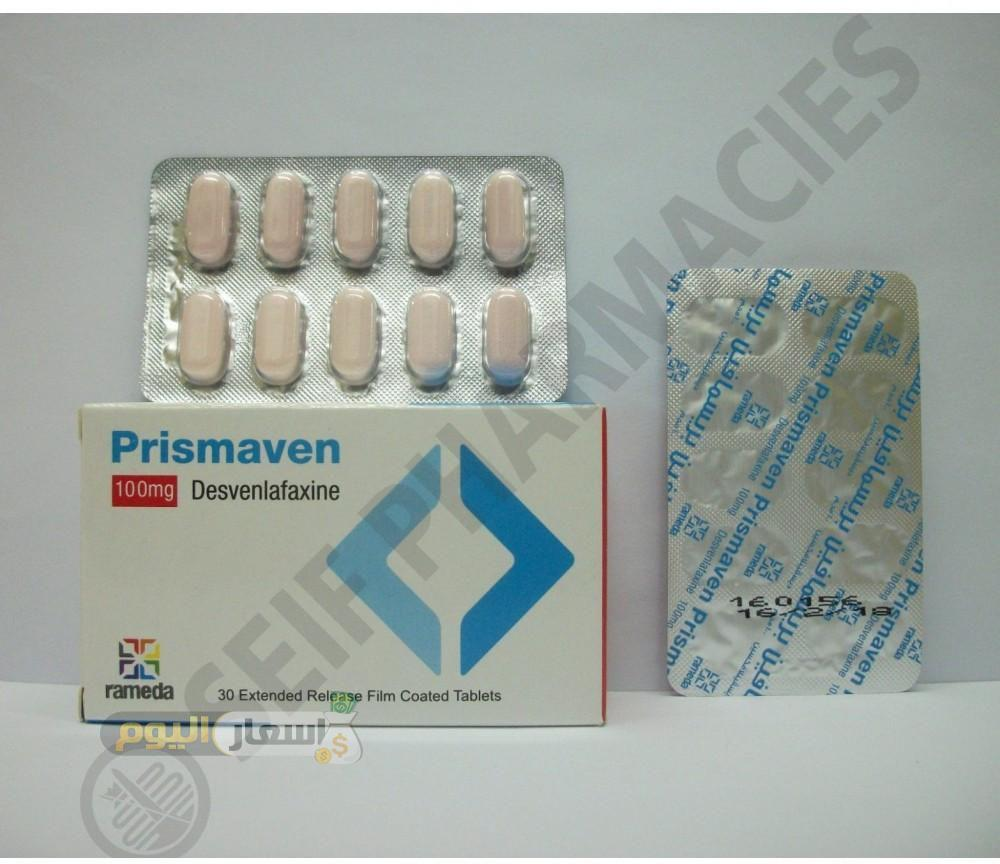Medicine: (55, 385, 633, 748), (655, 268, 945, 700)
